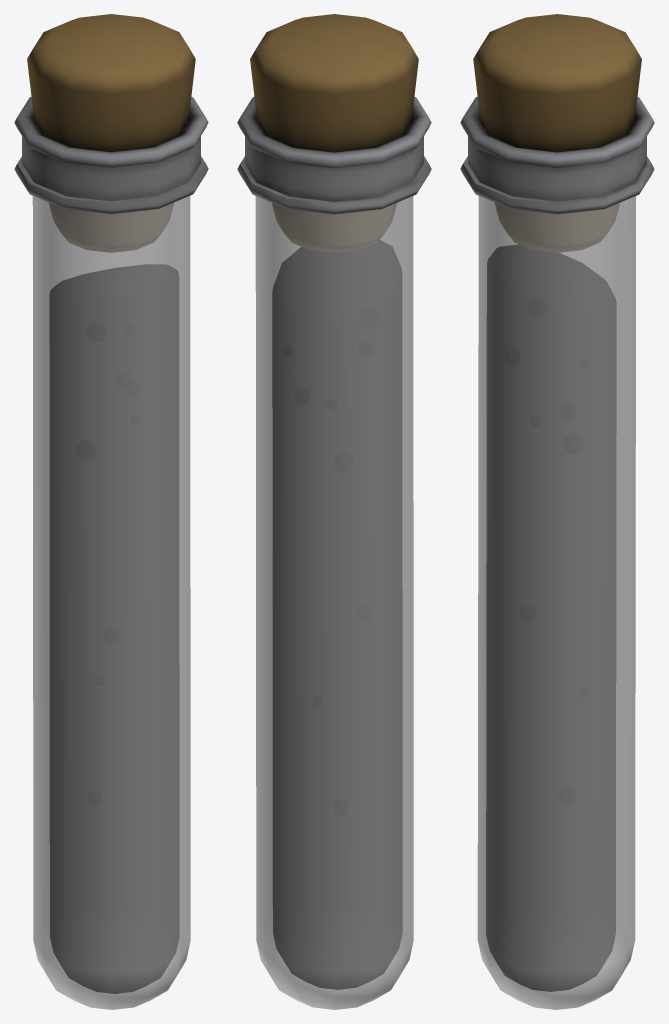
Rendered from Alchemy Vile 5.fbx.
The picture shows the model from 3 angles, left to right: view 1: azimuth 30°, elevation 25°; view 2: azimuth 150°, elevation 25°; view 3: azimuth 270°, elevation 25°; orthographic projection.
Visible parts, largest first — view 1: Alchemy_Vile_5; view 2: Alchemy_Vile_5; view 3: Alchemy_Vile_5.
Part boxes in pixels (x1=…): Alchemy_Vile_5: x1=14, y1=14, x2=208, y2=1009; Alchemy_Vile_5: x1=237, y1=14, x2=431, y2=1009; Alchemy_Vile_5: x1=460, y1=14, x2=654, y2=1009.
Size of the model in its own units: 2.73 by 15.02 by 2.73.
2 materials, 1 textured.
